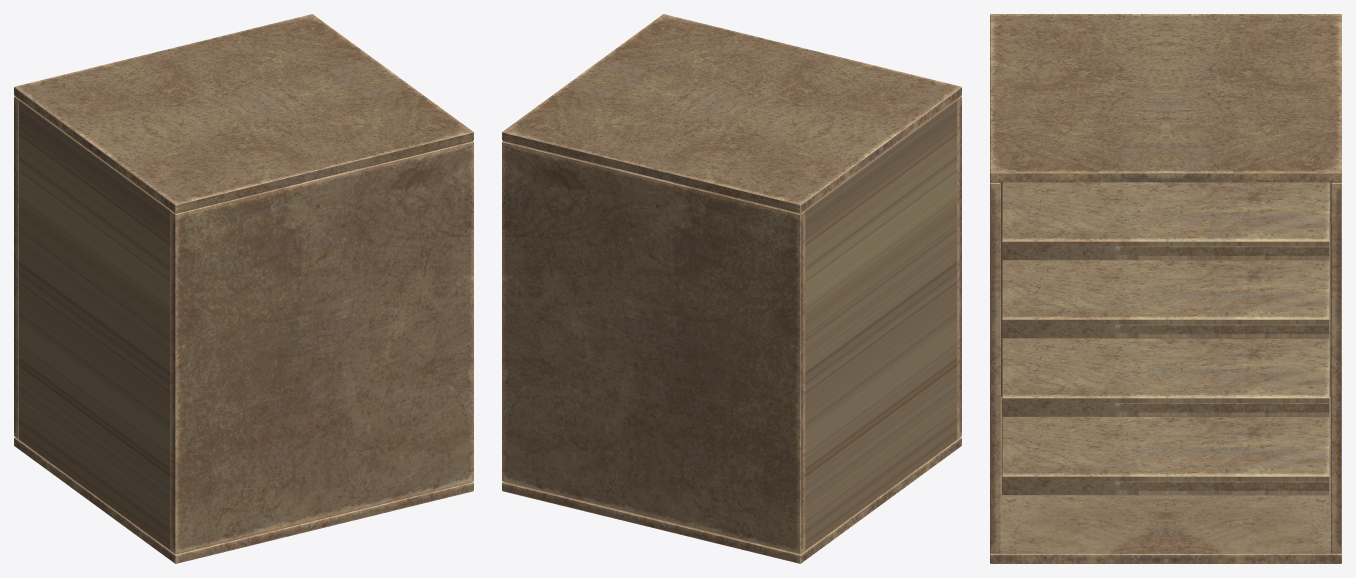
File: SM_Shelf.fbx
3 views of the same model, side by side, from view 1: azimuth 30°, elevation 25°; view 2: azimuth 150°, elevation 25°; view 3: azimuth 270°, elevation 25° (orthographic). The views are drawn at different scales.
Visible parts, largest first — view 1: SM_Shelf_LOD0; view 2: SM_Shelf_LOD0; view 3: SM_Shelf_LOD0.
Part boxes in pixels (x1,y1,x2,y2): SM_Shelf_LOD0: (14, 14, 473, 563); SM_Shelf_LOD0: (502, 14, 961, 563); SM_Shelf_LOD0: (990, 14, 1341, 563).
Size of the model in its own units: 76 by 71.1 by 87.33.
1 material, 1 textured.
